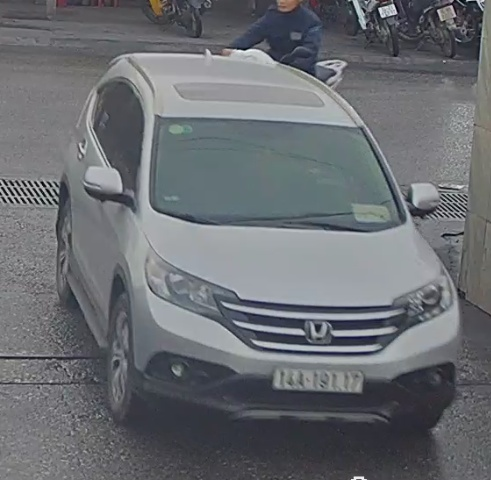vehicle plate: (273, 358, 366, 395)
